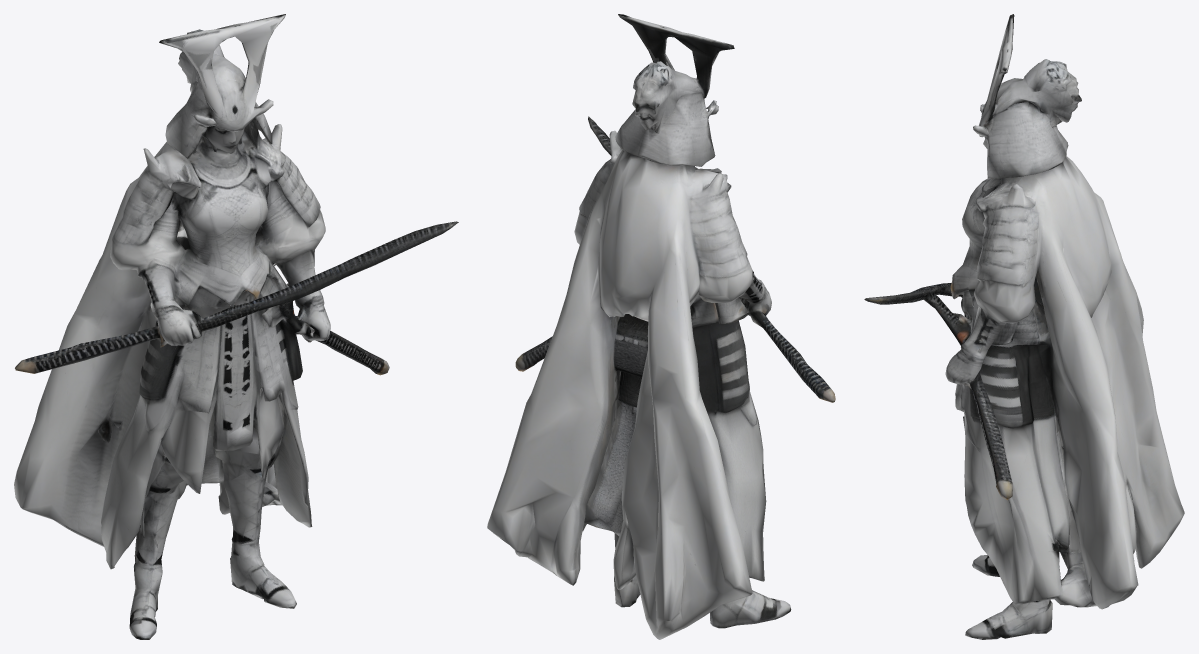
Rendered from Queen.fbx.
3 views of the same model, side by side, from view 1: azimuth 30°, elevation 25°; view 2: azimuth 150°, elevation 25°; view 3: azimuth 270°, elevation 25° (orthographic).
Visible parts, largest first — view 1: Mesh_0; view 2: Mesh_0; view 3: Mesh_0.
Part boxes in pixels (box(x1,y1,x2,y2)): Mesh_0: box(14, 14, 458, 639); Mesh_0: box(487, 14, 835, 639); Mesh_0: box(864, 14, 1184, 639).
Bounding box in the file's own units: 126 × 200 × 102.
1 material, 1 textured.
